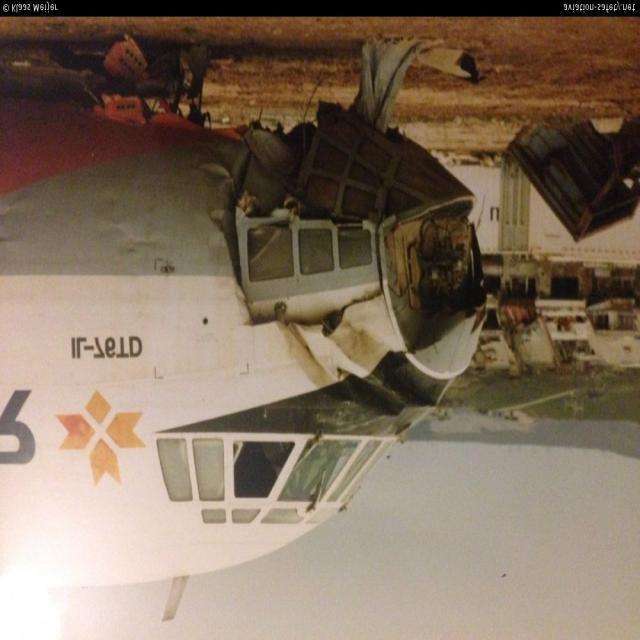dent: (202, 163, 235, 228)
